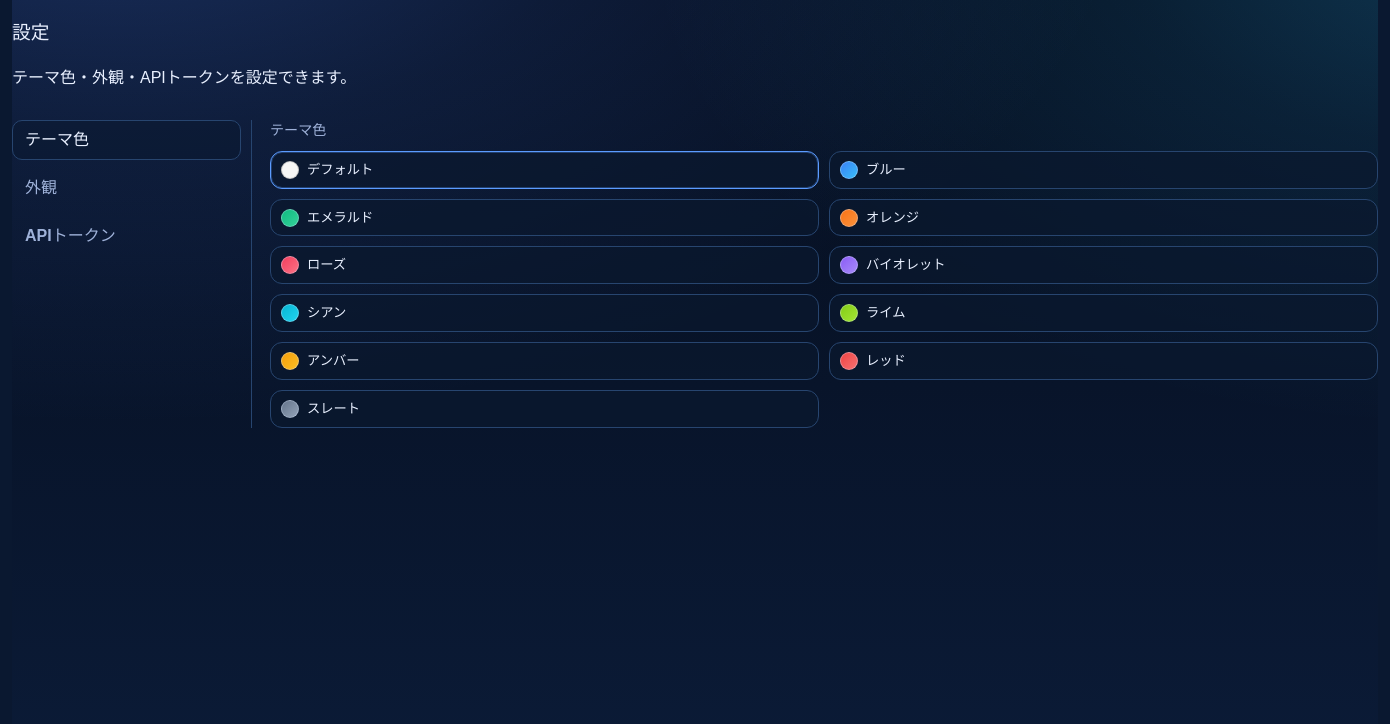
Scenario: SettingsPanel › rejects past date for token expiration
Click the tab "APIトークン".
click(126, 236)  # box 12,216 -> 241,257
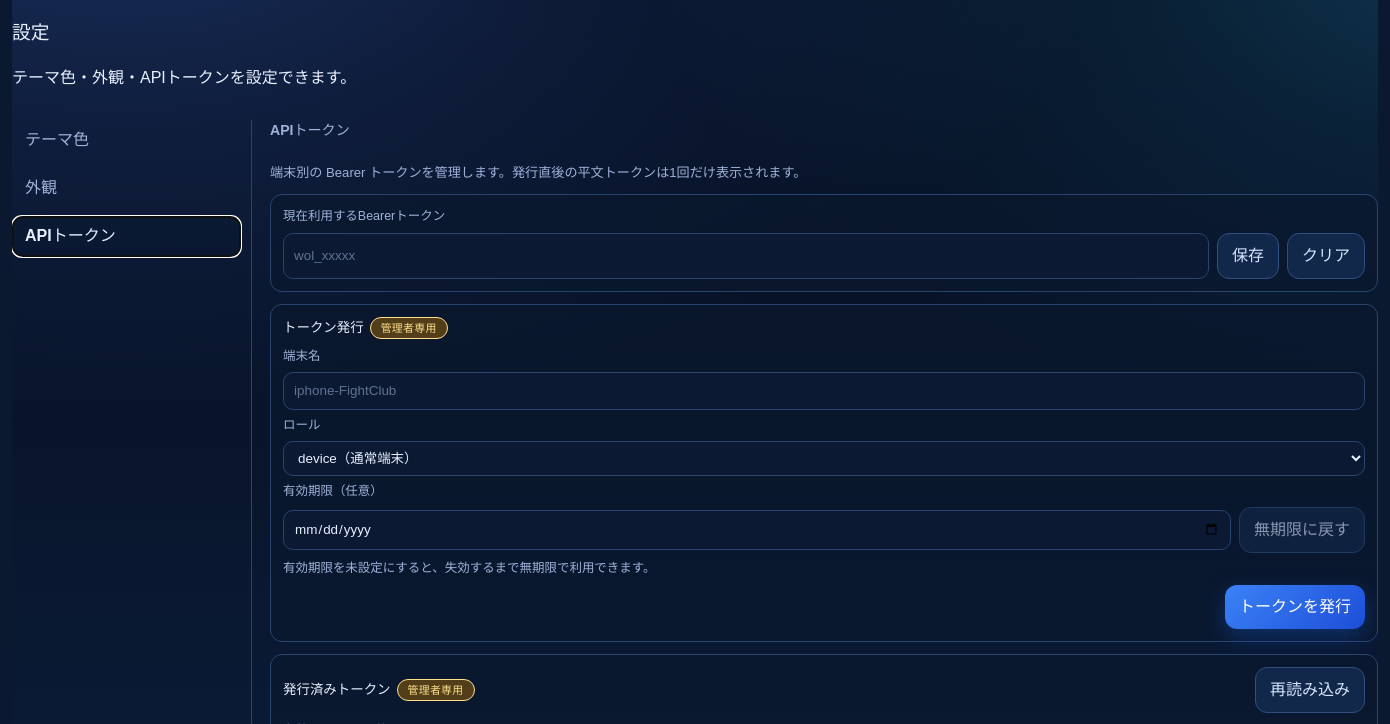
Type "iphone-past-date" into the field labelled "端末名".
click(824, 391); type("iphone-past-date")  # box 283,372 -> 1365,410
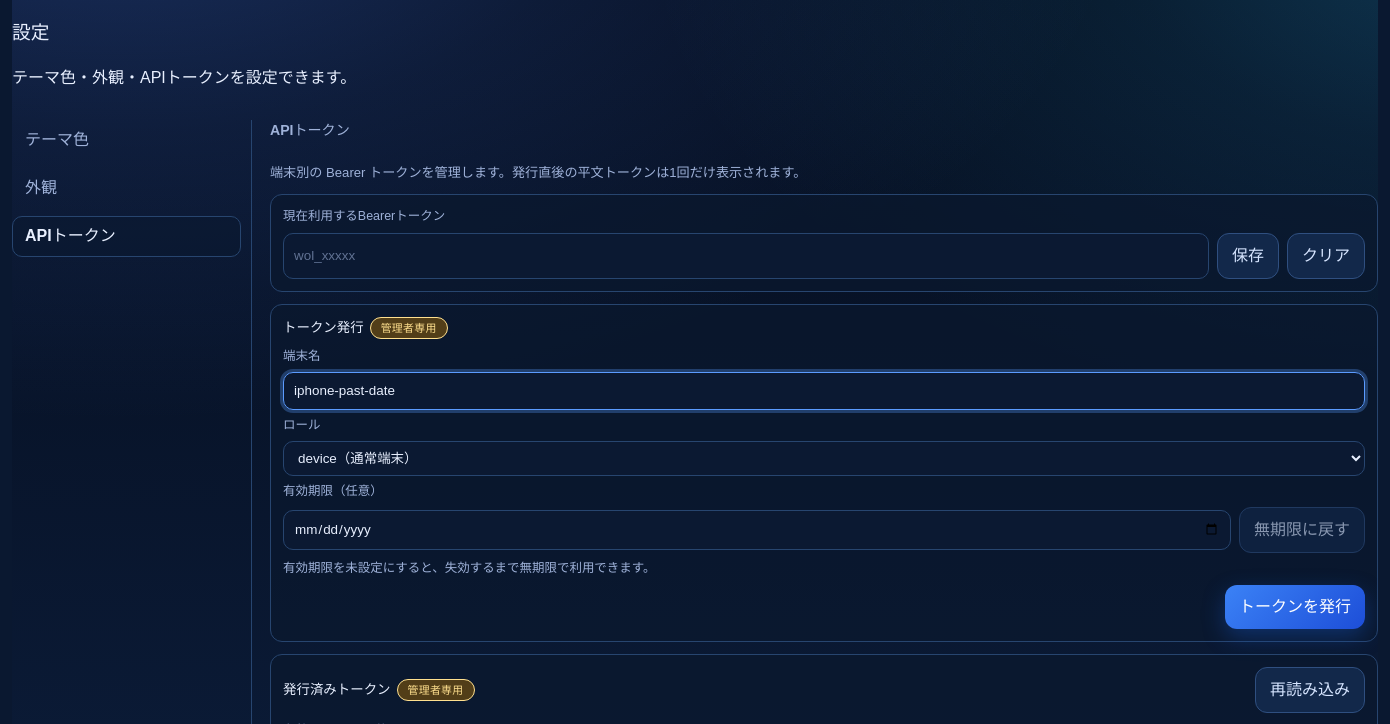
Type "2000-01-01" into the date field labelled "有効期限（任意）".
click(757, 530); type("2000-01-01")  # box 283,510 -> 1231,550
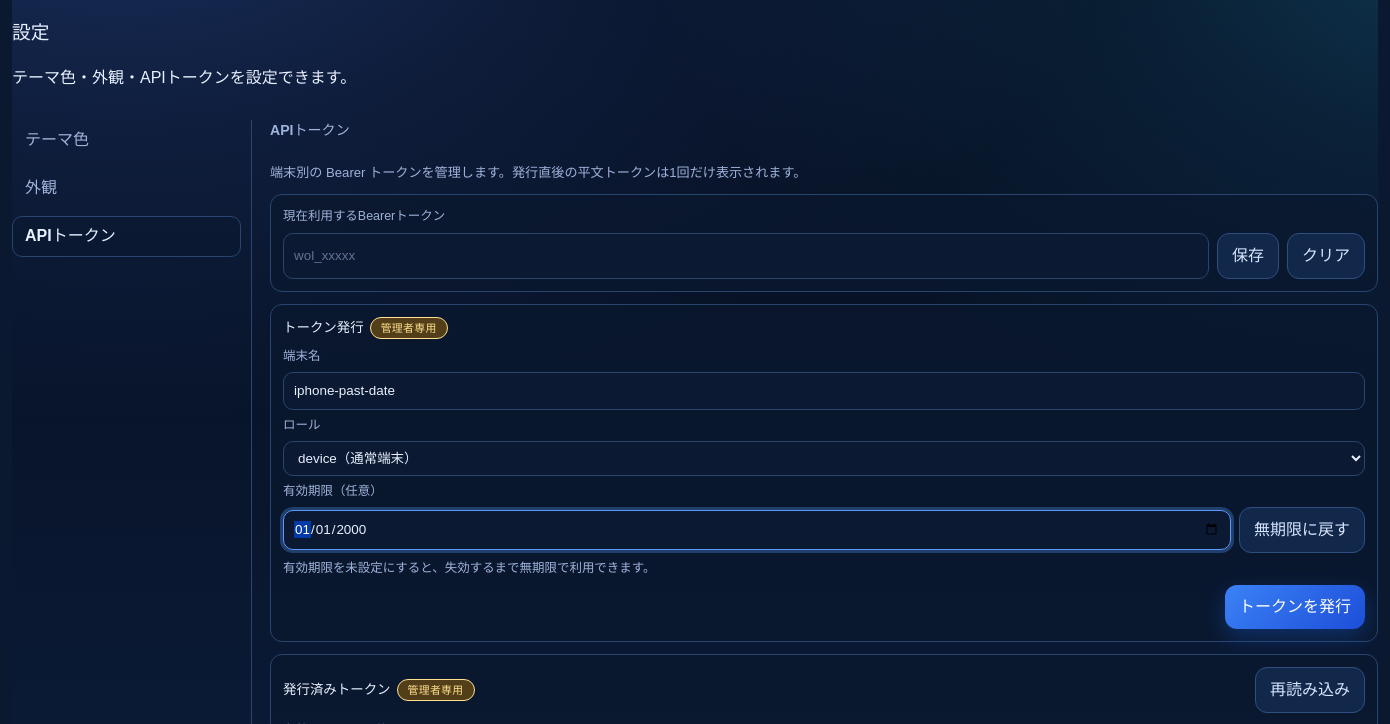
Click the button "トークンを発行".
click(1295, 607)  # box 1225,585 -> 1365,629
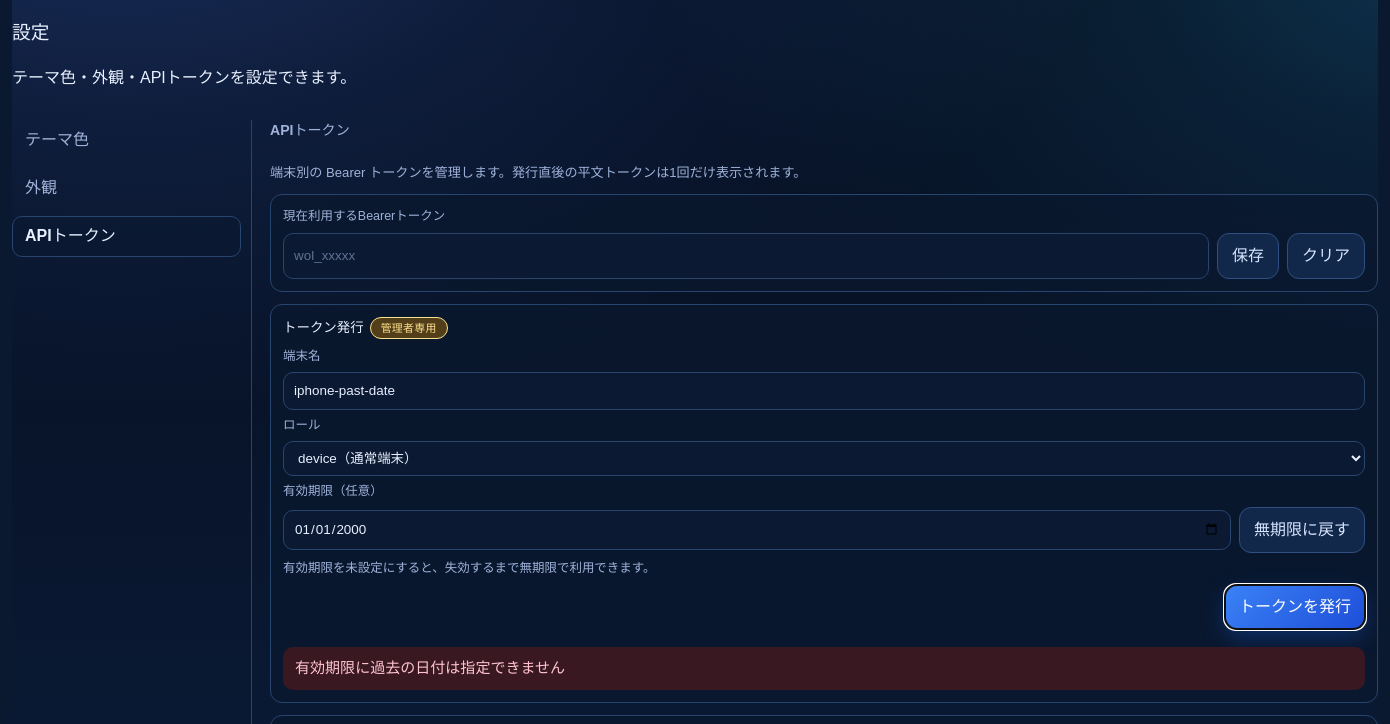
Now the text "有効期限に過去の日付は指定できません" is shown, box 283,647 -> 1365,690
